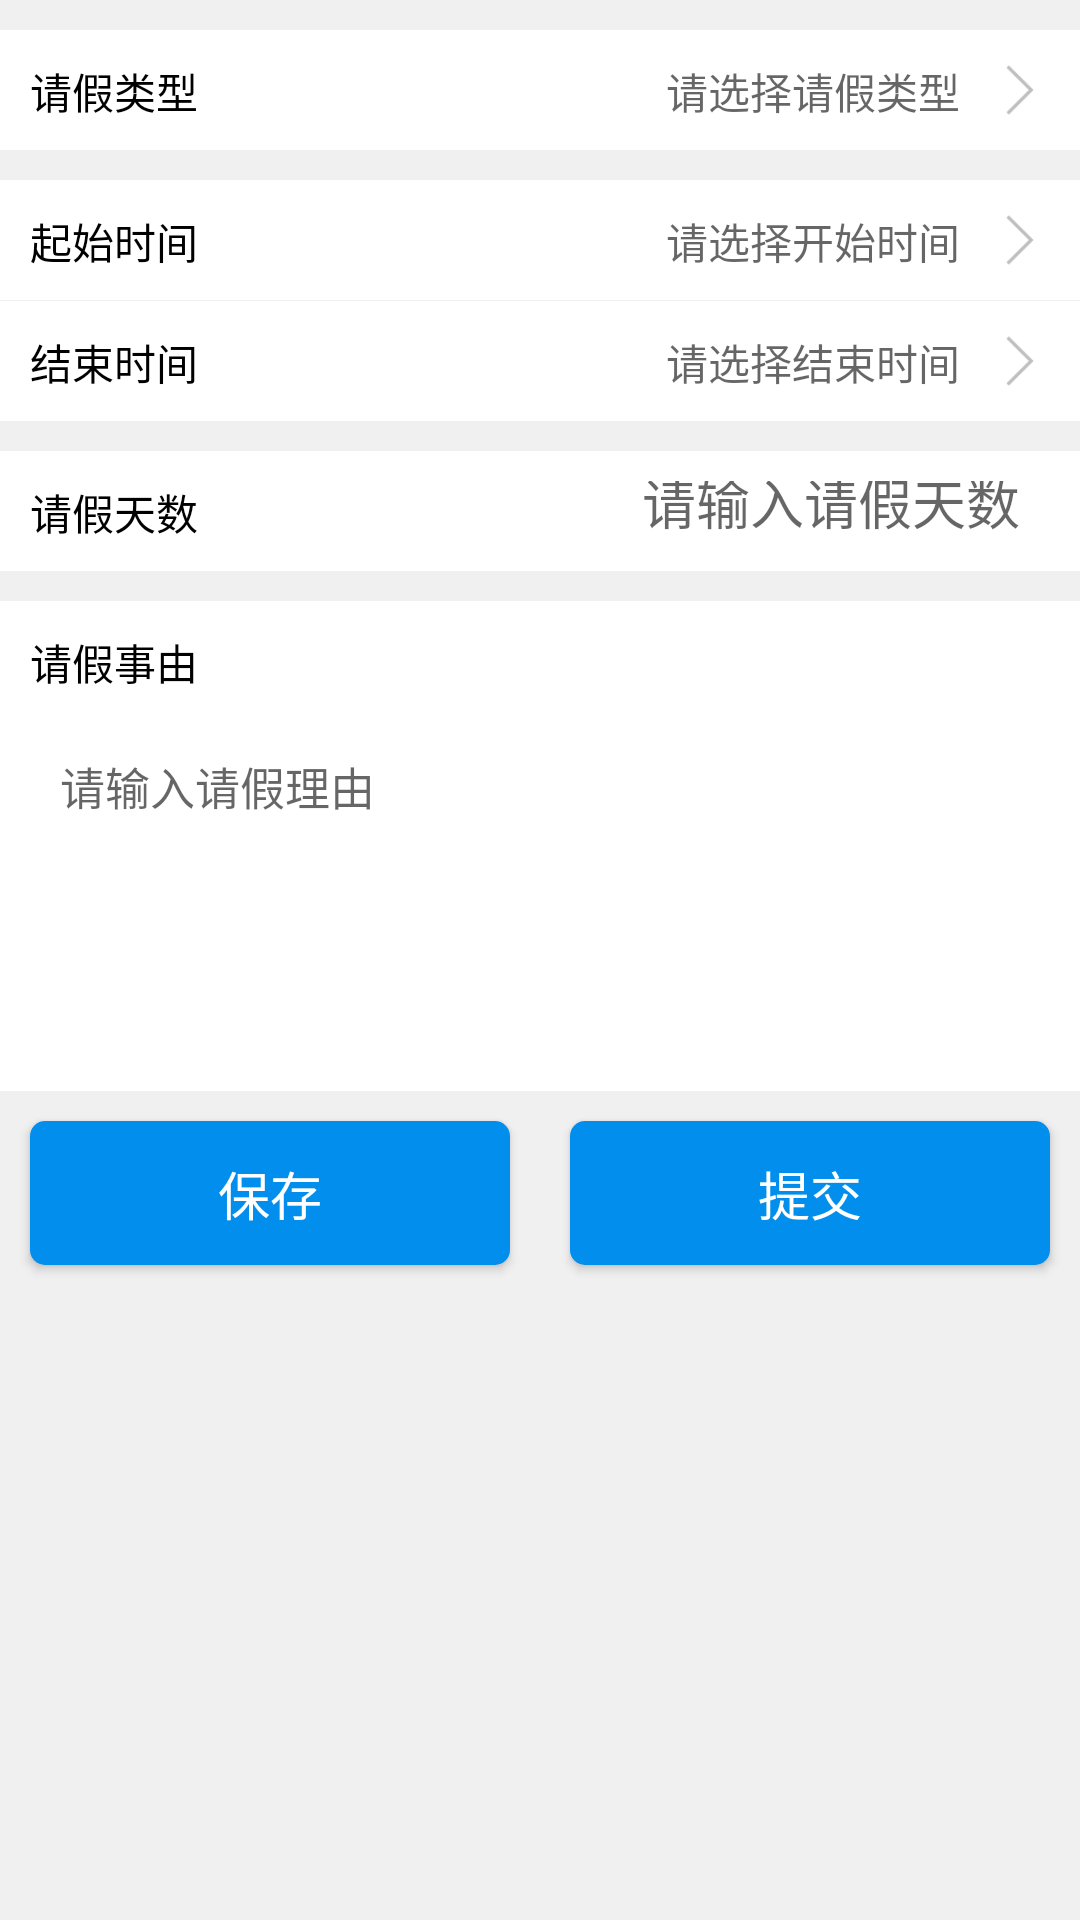

Point at icon controls on the screen. Image size 1080w x 1920h, points as point (x, y).
right: point (1020, 90), point (1020, 240), point (1020, 361)
